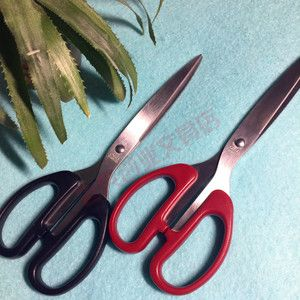scissor: (1, 51, 203, 297)
